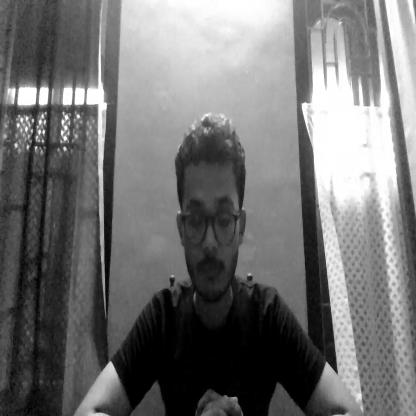Normal: (174, 116, 246, 305)
